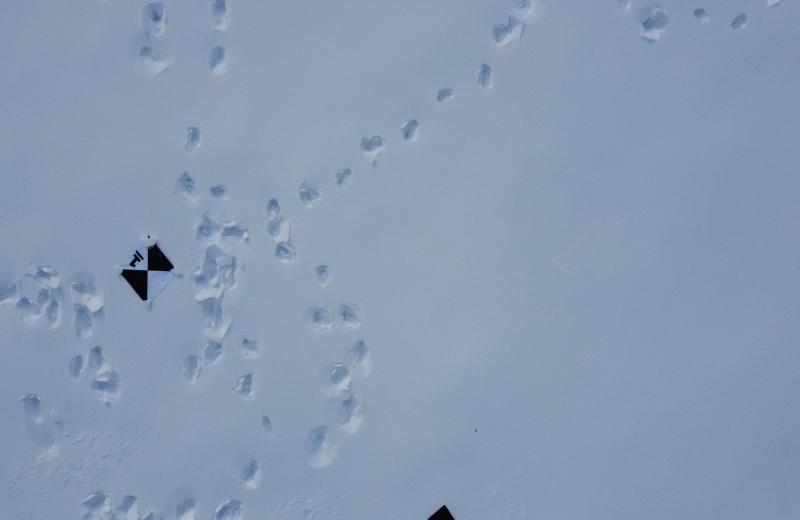Square: (426, 500, 455, 520)
